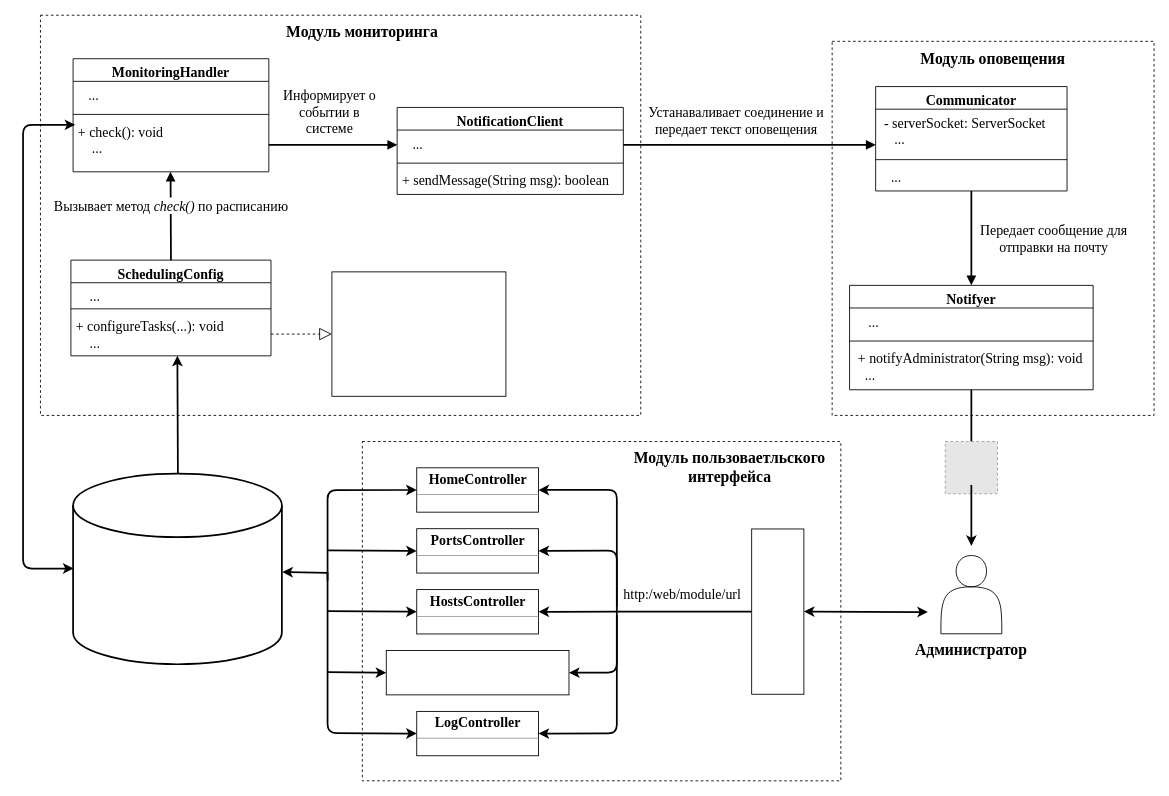
The diagram is 1169 pixels wide and 796 high, and some of its shapes have lost their labels. Grey dashed boxes stand in for pictures. The shapes that lost their labels are listed below. From the top down, each one's centre as x and y in pixels, then its label:
the point at 418,333: <<Interface>> SchedulingConfigurer + configureTask(...): void
the point at 177,568: База данных
the point at 777,611: HTML/JavaScript
the point at 477,672: MonitoringHostsController
